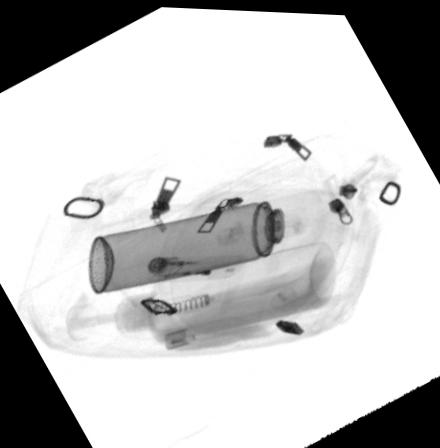Lighter: (165, 309, 249, 354)
Sprayer: (88, 184, 325, 292)
